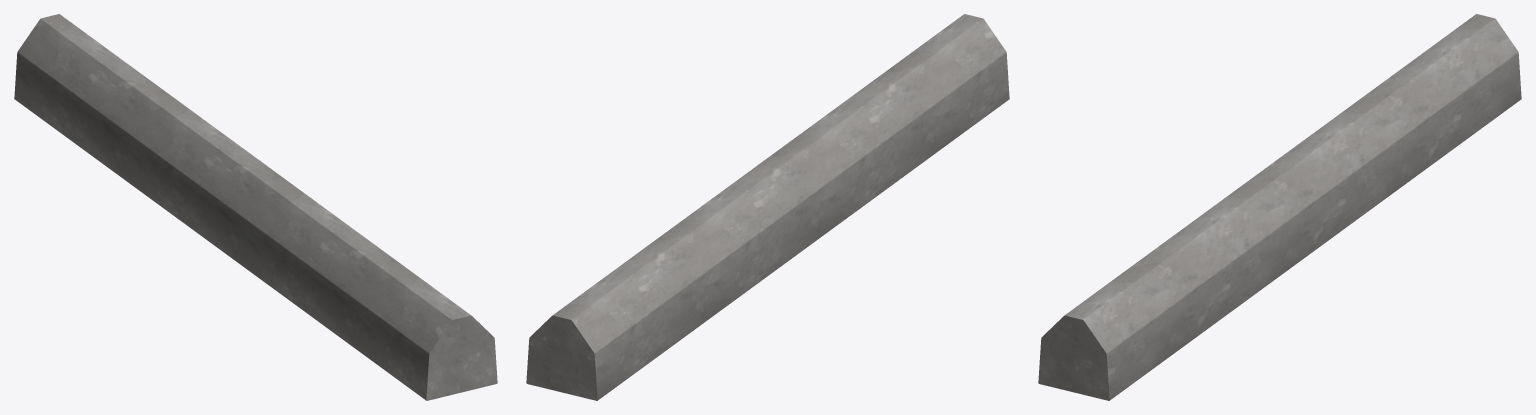
Rendered from sm_Barrier_10m.fbx.
The picture shows the model from 3 angles, left to right: view 1: azimuth 30°, elevation 25°; view 2: azimuth 150°, elevation 25°; view 3: azimuth 330°, elevation 25°; orthographic projection.
Parts seen in each view (by area): view 1: sm_Barrier_10m; view 2: sm_Barrier_10m; view 3: sm_Barrier_10m.
Boxes of the visible parts, x1=… form: sm_Barrier_10m: x1=14, y1=14, x2=497, y2=400; sm_Barrier_10m: x1=526, y1=14, x2=1009, y2=400; sm_Barrier_10m: x1=1038, y1=14, x2=1521, y2=400.
Size of the model in its own units: 99.87 by 100 by 1000.
